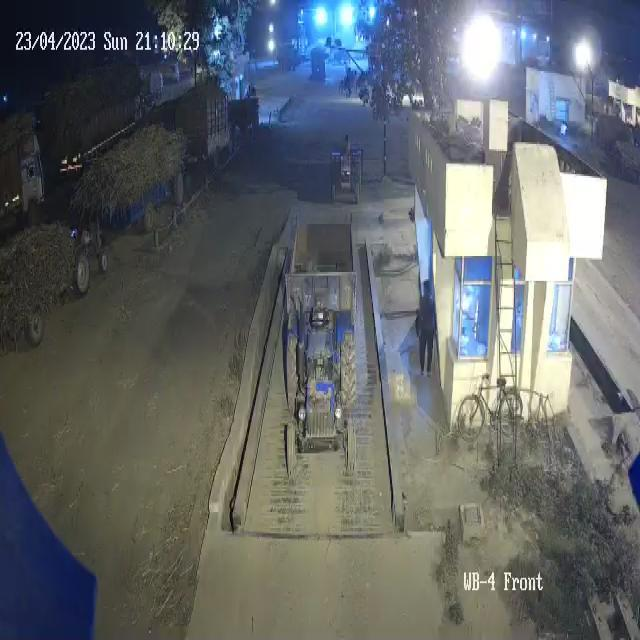Tratores - v5 YOLO V8L 2024-11-13: (273, 304, 368, 489), (66, 210, 110, 292)
